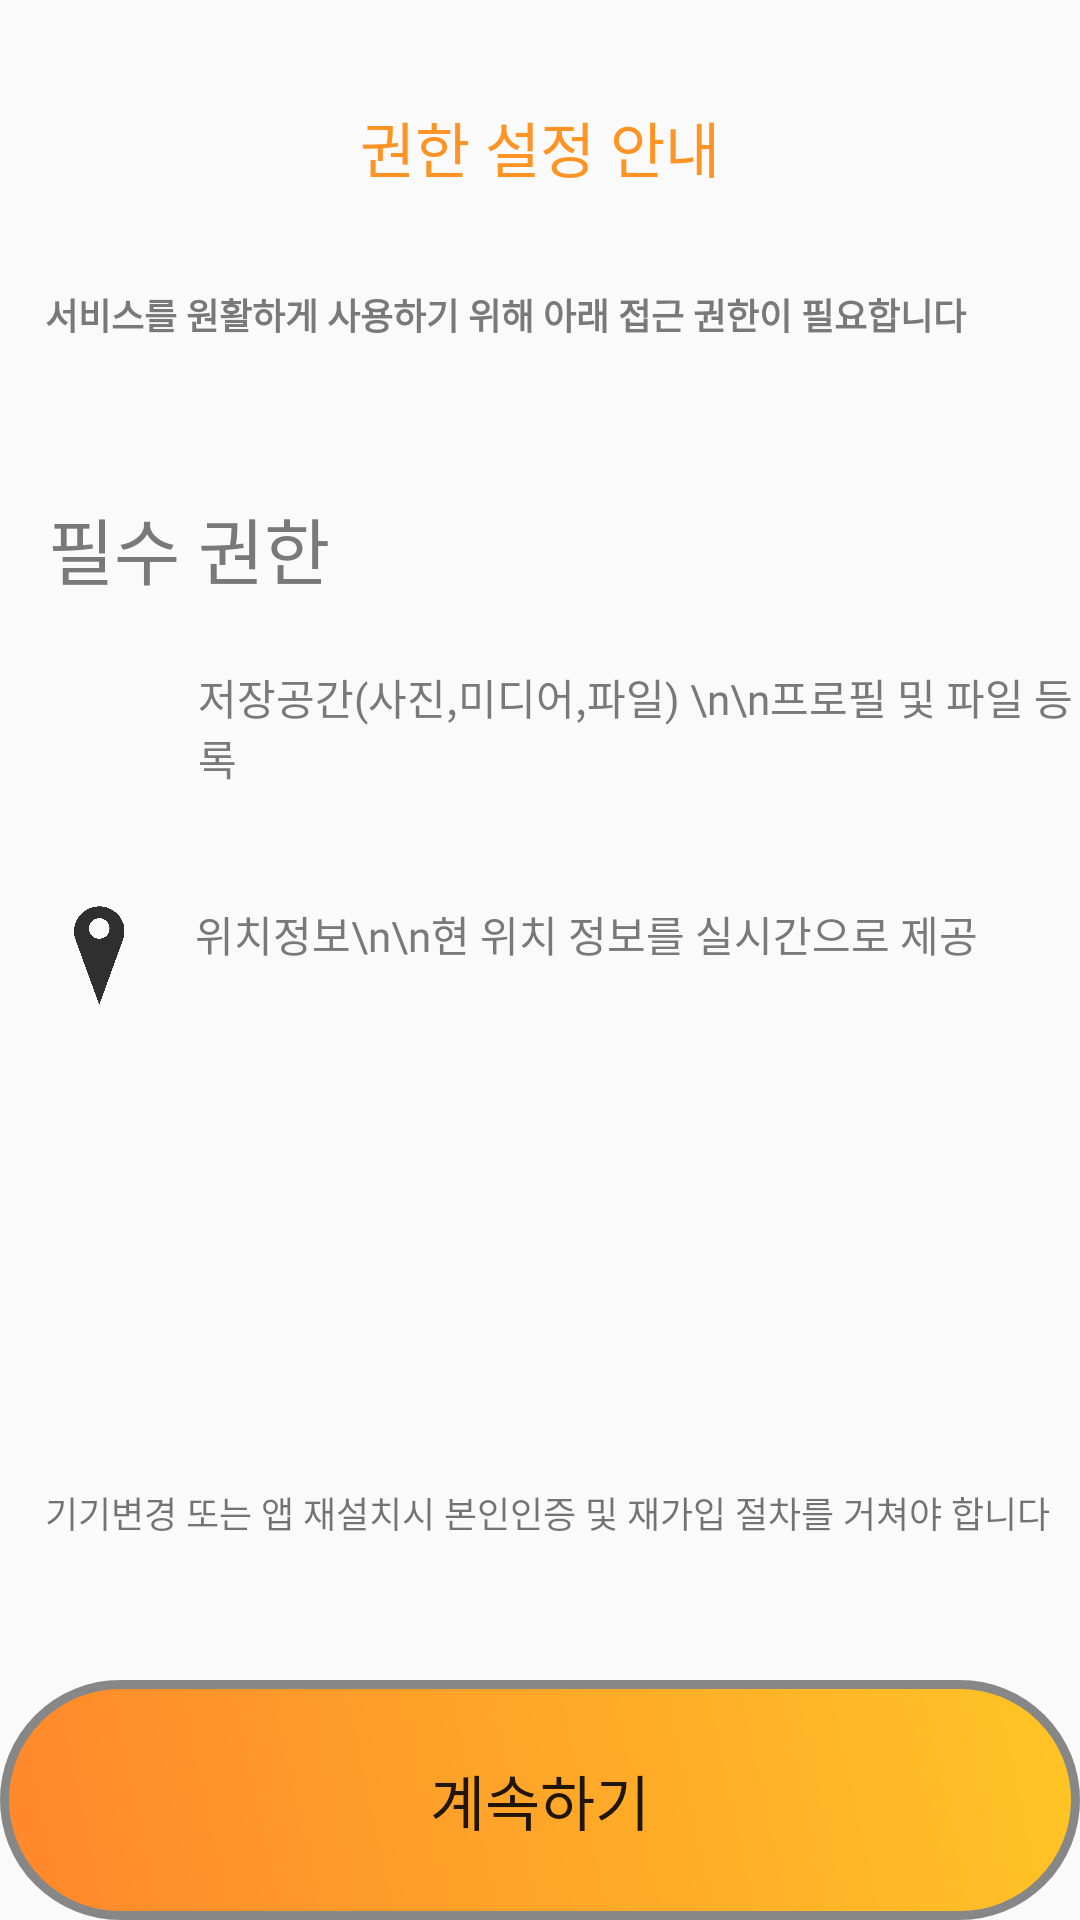

Icon click points for this 1080*1920 phone screenshot, format point (x, y):
mylocation: point (99, 955)
